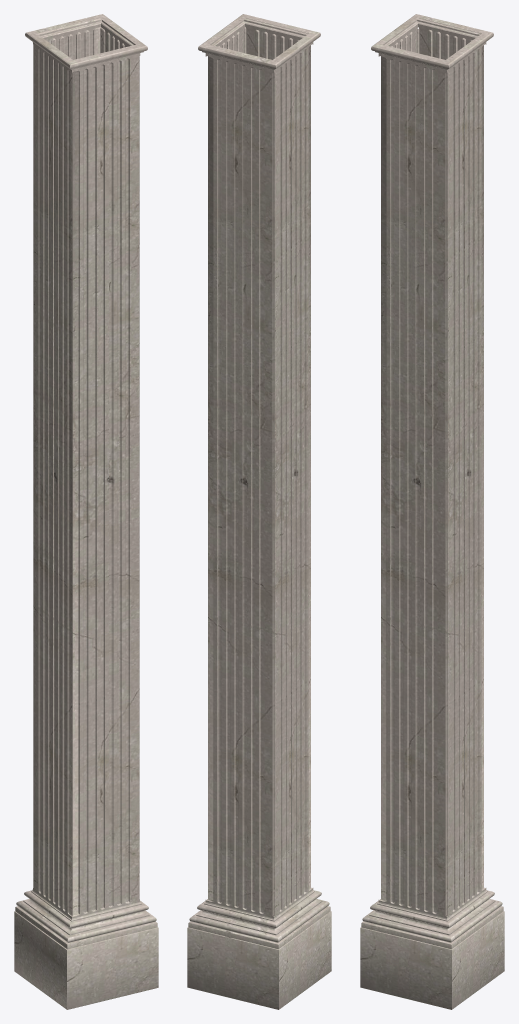
File: marble_tile_198.fbx
3 renders of one model, left to right at view 1: azimuth 30°, elevation 25°; view 2: azimuth 150°, elevation 25°; view 3: azimuth 330°, elevation 25°, orthographic.
Visible parts, largest first — view 1: marble_tile_198; view 2: marble_tile_198; view 3: marble_tile_198.
Boxes of the visible parts, x1,y1,x2,y2 form: marble_tile_198: (14,14,158,1009); marble_tile_198: (187,14,331,1009); marble_tile_198: (360,14,504,1009).
Bounding box in the file's own units: 61.06 × 599 × 61.06.
